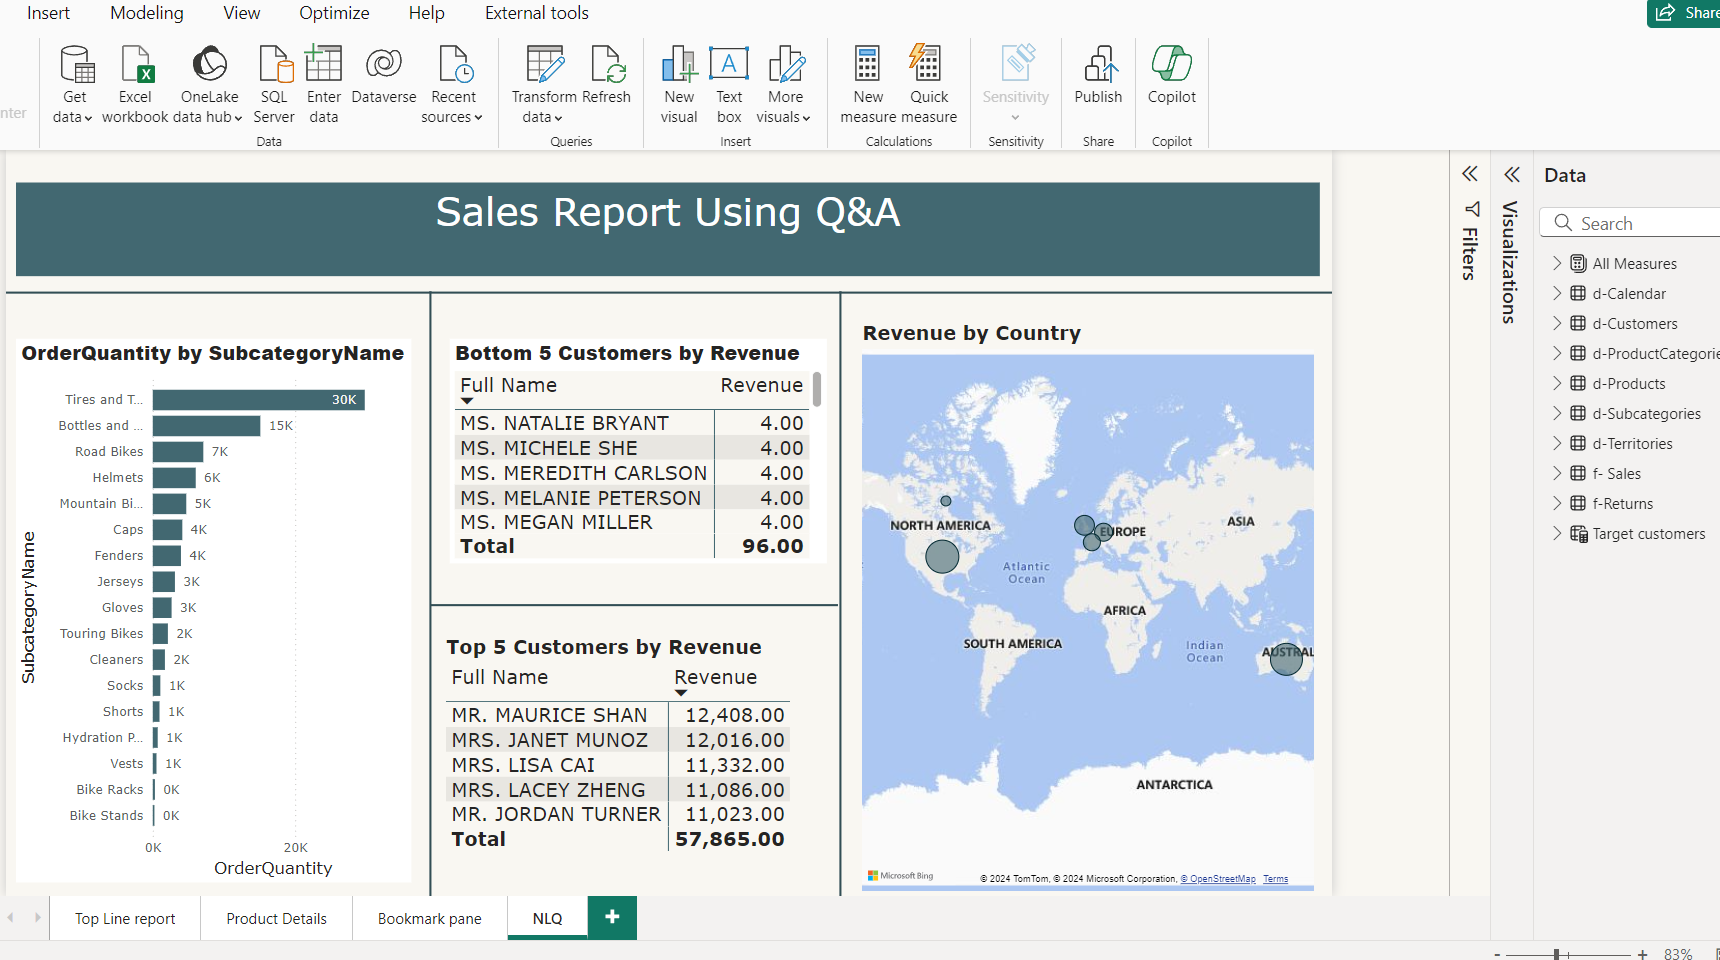

The page's visual inventory and layout, read from the dashboard file:
{"tool":"powerbi","page":{"name":" NLQ","canvas":[1280,720],"ordinal":3},"visuals":[{"type":"clusteredBarChart","fields":{"Category":["d-Subcategories.SubcategoryName"],"Y":["Sum(f- Sales.OrderQuantity)"]},"box":[9.6,182.7,381.8,524.6],"z":0},{"type":"shape","box":[399.7,136,20.6,583.7],"z":1000},{"type":"pivotTable","title":"Top 5 Customers by Revenue","fields":{"Rows":["d-Customers.Full Name"],"Values":["Sum(f- Sales.Revenue)"]},"box":[420.3,468.3,362.6,239],"z":2000},{"type":"pivotTable","title":"Bottom 5 Customers by Revenue","fields":{"Rows":["d-Customers.Full Name"],"Values":["Sum(f- Sales.Revenue)"]},"box":[428.5,182.7,363.9,217],"z":3000},{"type":"shape","box":[410.6,428.5,392.8,22],"z":4000},{"type":"map","fields":{"Category":["d-Territories.Country"],"Size":["Sum(f- Sales.Revenue)"]},"box":[821.3,164.8,446.4,554.8],"z":5000},{"type":"shape","box":[795.2,136,20.6,583.7],"z":6000},{"type":"shape","box":[0,122.2,1280,31.6],"z":7000},{"type":"textbox","box":[9.6,31.6,1258,90.6],"z":8000}]}

Visuals, with their boxes on the page's 1280x720 design canvas (x1, y1, x2, y2). These are canvas units, not pixel positions in the 1720x960 screenshot, which may show the page scaled, cropped or inside an application window:
clusteredBarChart - d-Subcategories.SubcategoryName x Sum(f- Sales.OrderQuantity): 10,183,391,707
shape: 400,136,420,720
"Top 5 Customers by Revenue" pivotTable: 420,468,783,707
"Bottom 5 Customers by Revenue" pivotTable: 428,183,792,400
shape: 411,428,803,450
map - d-Territories.Country x Sum(f- Sales.Revenue): 821,165,1268,720
shape: 795,136,816,720
shape: 0,122,1280,154
textbox: 10,32,1268,122
